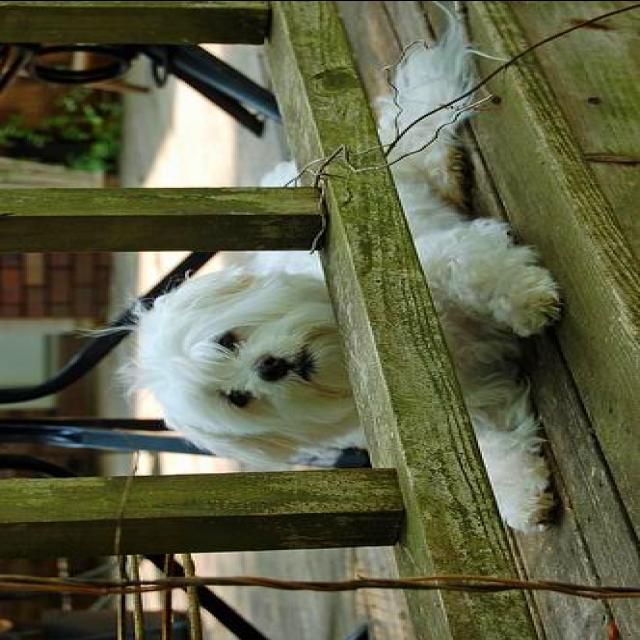maltese_dog: (92, 3, 564, 535)
